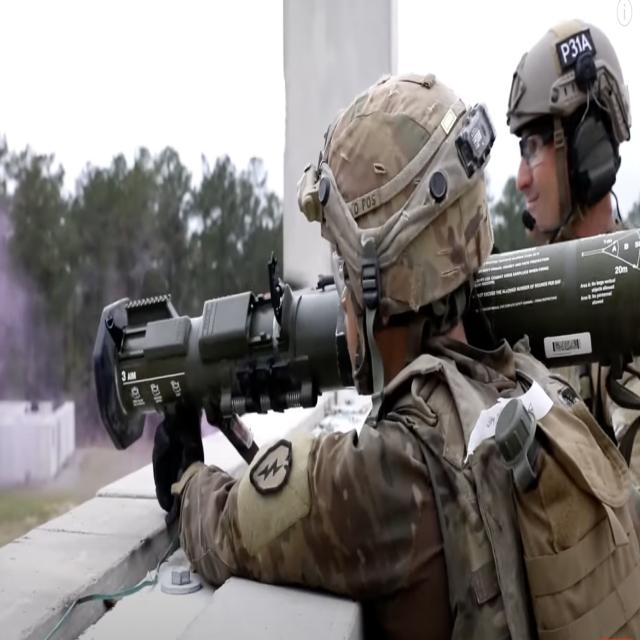bazooka: (88, 198, 640, 490)
